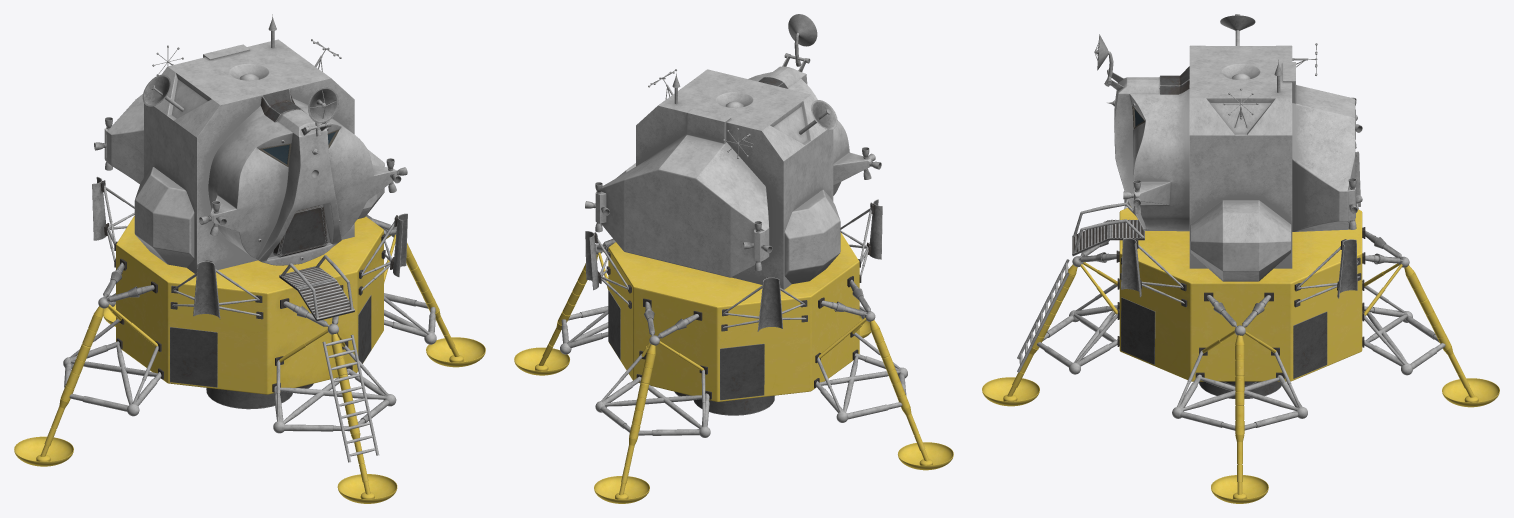
The model's file is lunarmodule.gltf.
3 views of the same model, side by side, from view 1: azimuth 30°, elevation 25°; view 2: azimuth 150°, elevation 25°; view 3: azimuth 270°, elevation 25° (orthographic). The views are drawn at different scales.
Visible parts, largest first — view 1: apollo_lunar_module; view 2: apollo_lunar_module; view 3: apollo_lunar_module.
Part boxes in pixels (x1=…): apollo_lunar_module: x1=14, y1=14, x2=485, y2=503; apollo_lunar_module: x1=514, y1=14, x2=953, y2=503; apollo_lunar_module: x1=982, y1=14, x2=1499, y2=503.
Bounding box in the file's own units: 9.02 × 7.03 × 9.02.
Materials: 5 (5 with a texture image).
